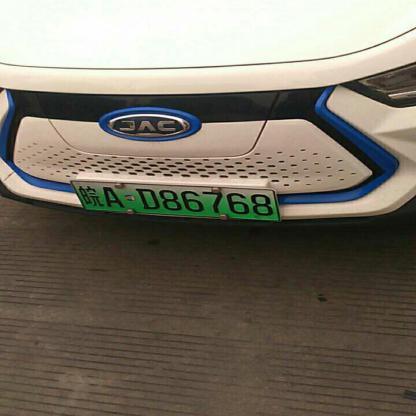lp: (72, 181, 278, 219)
